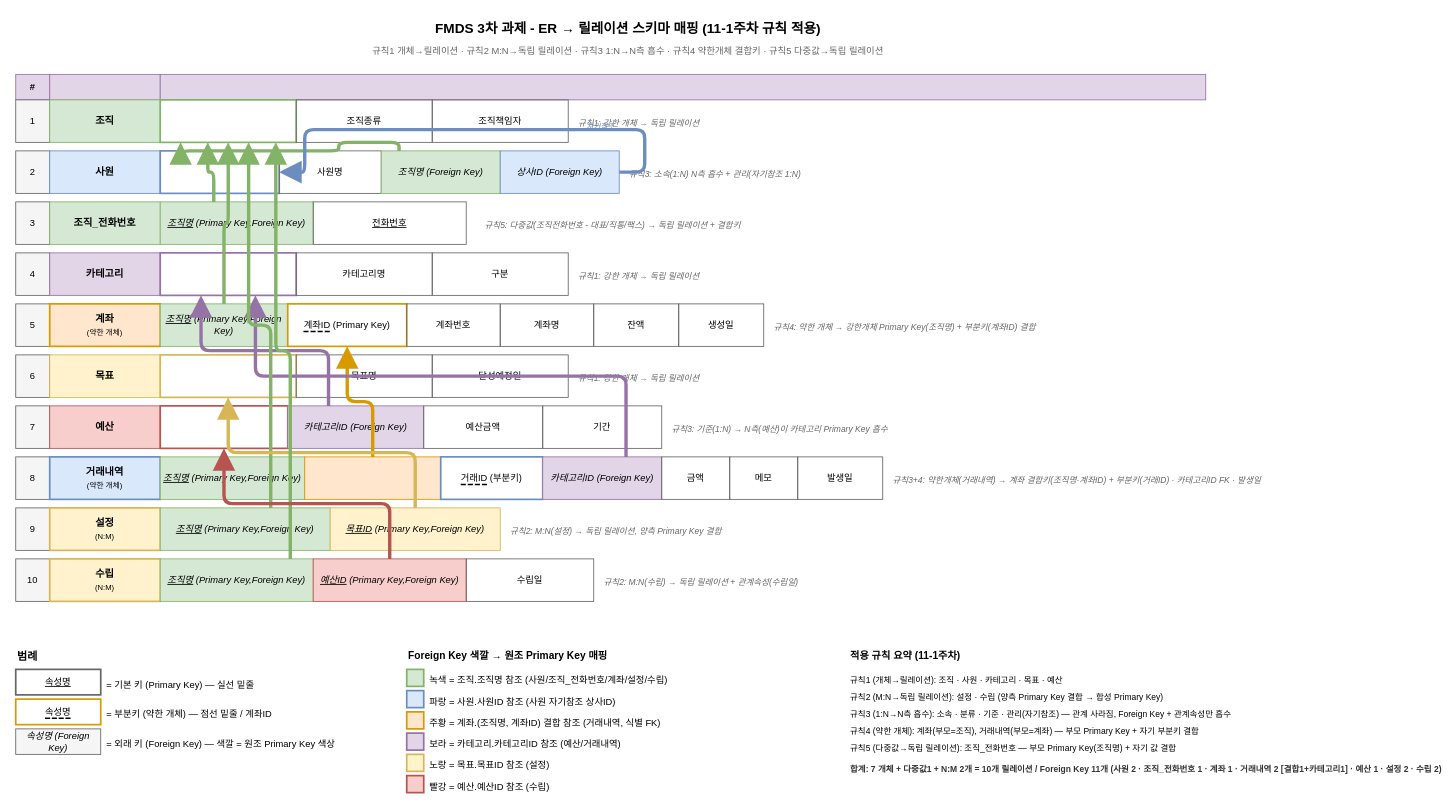
The diagram is 1456 pixels wide and 808 high, and some of its shapes have lost their labels. The box of each missing label's shape, as (x1, y1, x2, y2) in pixels:
계좌ID (Primary Key,Foreign Key): (304, 456, 441, 499)
릴레이션: (49, 74, 160, 100)
목표ID: (159, 354, 297, 398)
사원ID: (159, 150, 280, 194)
속성 (밑줄 = Primary Key, 점선 밑줄 = 부분키, 색깔 화살표 = Foreign Key → 원조 Primary Key): (159, 74, 1206, 100)
예산ID: (159, 405, 288, 449)
조직명: (159, 99, 297, 143)
카테고리ID: (159, 252, 297, 296)
